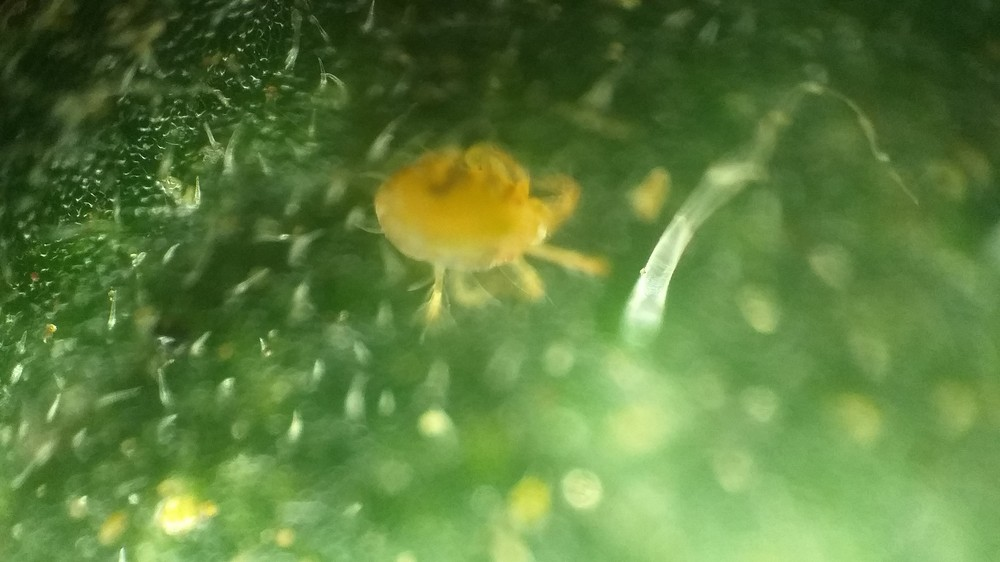Aracnido Rojo: (310, 111, 656, 341)
